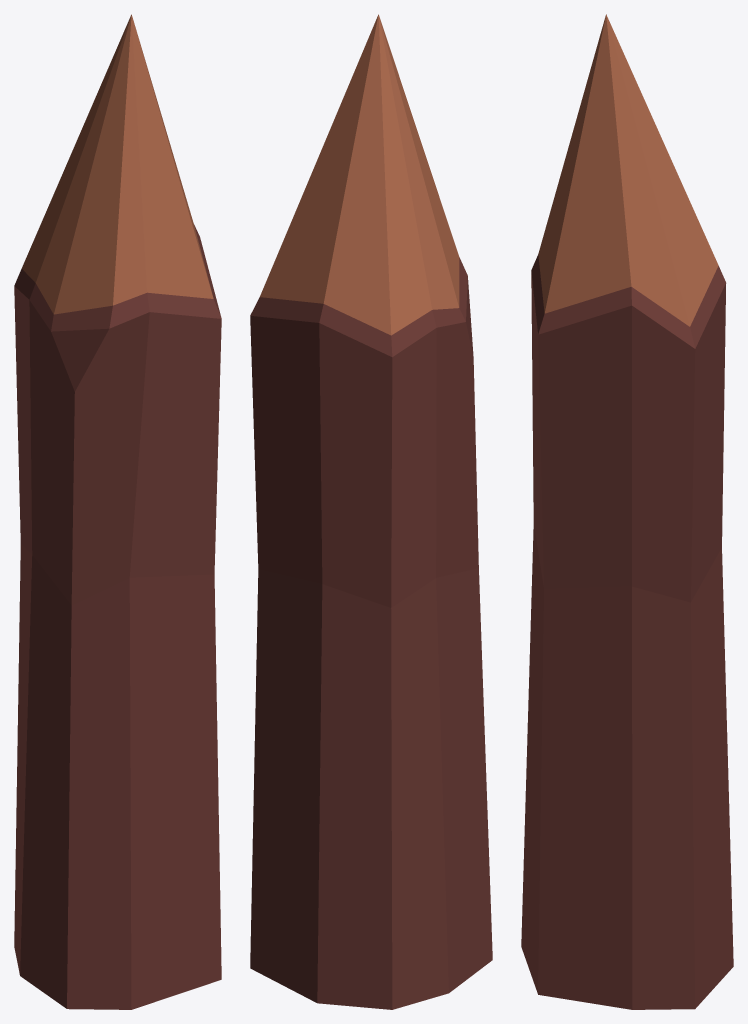
File: Wooden Pole Sharp 01.fbx
The picture shows the model from 3 angles, left to right: view 1: azimuth 30°, elevation 25°; view 2: azimuth 150°, elevation 25°; view 3: azimuth 270°, elevation 25°; orthographic projection.
Parts seen in each view (by area): view 1: Wooden Pole Sharp 01; view 2: Wooden Pole Sharp 01; view 3: Wooden Pole Sharp 01.
Part boxes in pixels (bbox=[...]): Wooden Pole Sharp 01: bbox=[14, 14, 221, 1009]; Wooden Pole Sharp 01: bbox=[250, 14, 492, 1009]; Wooden Pole Sharp 01: bbox=[521, 14, 733, 1009].
Bounding box in the file's own units: 25.77 × 132 × 26.59.
